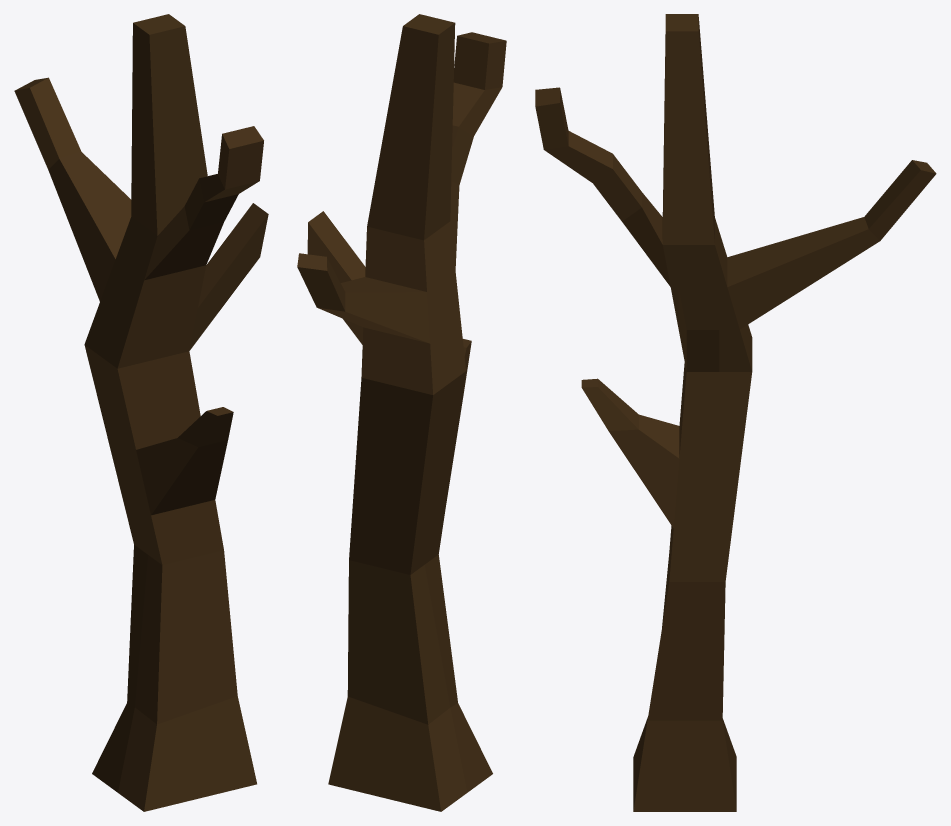
File: Branch.fbx
3 renders of one model, left to right at view 1: azimuth 30°, elevation 25°; view 2: azimuth 150°, elevation 25°; view 3: azimuth 270°, elevation 25°, orthographic.
Visible parts, largest first — view 1: Cube; view 2: Cube; view 3: Cube.
Part boxes in pixels (bbox=[...]): Cube: bbox=[14, 14, 268, 811]; Cube: bbox=[297, 14, 506, 811]; Cube: bbox=[535, 14, 936, 811].
Size of the model in its own units: 34.24 by 169 by 81.37.
